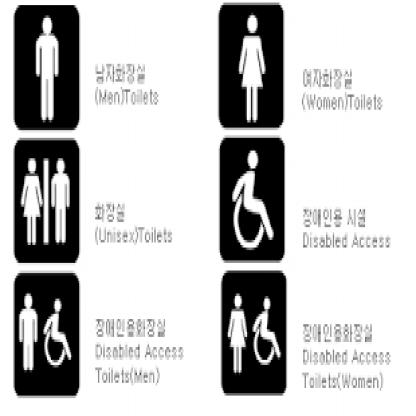toilet: (18, 292, 75, 379), (232, 142, 276, 253), (22, 155, 73, 248), (228, 289, 282, 376), (239, 13, 267, 123), (35, 17, 61, 125)
